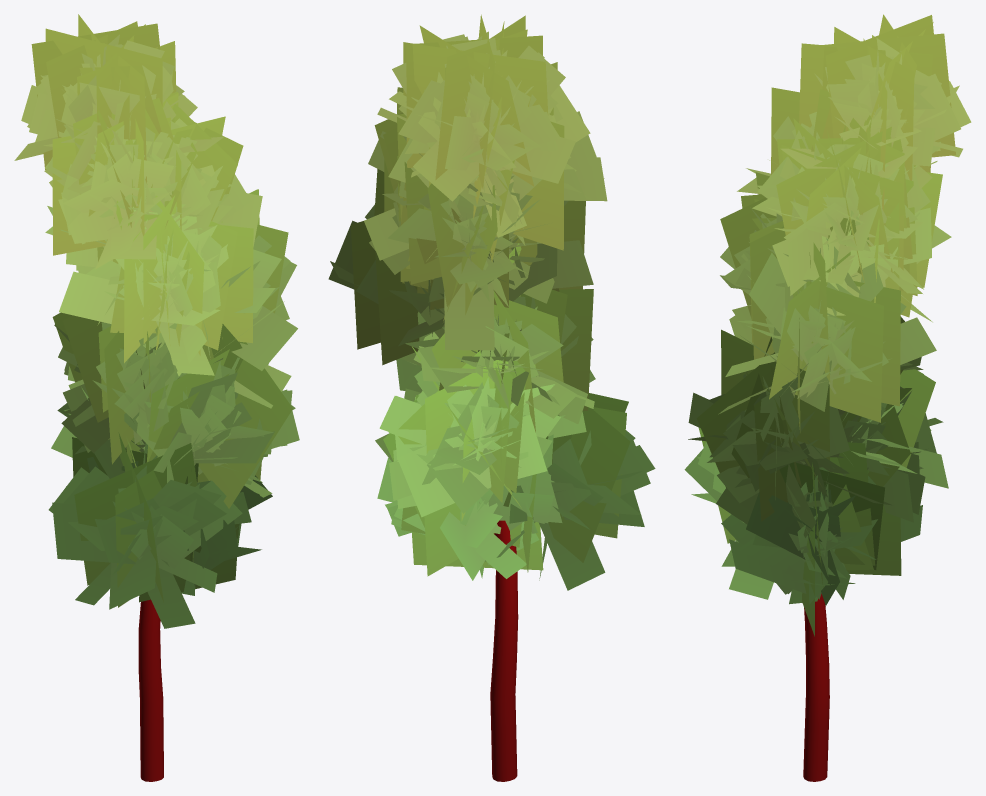
File: young_pine.glb
3 views of the same model, side by side, from view 1: azimuth 30°, elevation 25°; view 2: azimuth 150°, elevation 25°; view 3: azimuth 270°, elevation 25° (orthographic). The views are drawn at different scales.
Visible parts, largest first — view 1: LOD0; view 2: LOD0; view 3: LOD0.
Part boxes in pixels (x1,y1,x2,y2): LOD0: (14,14,299,781); LOD0: (328,14,655,781); LOD0: (684,14,971,781).
Size of what is drawn, in the model's own units: 2.06 by 5.56 by 1.96.
